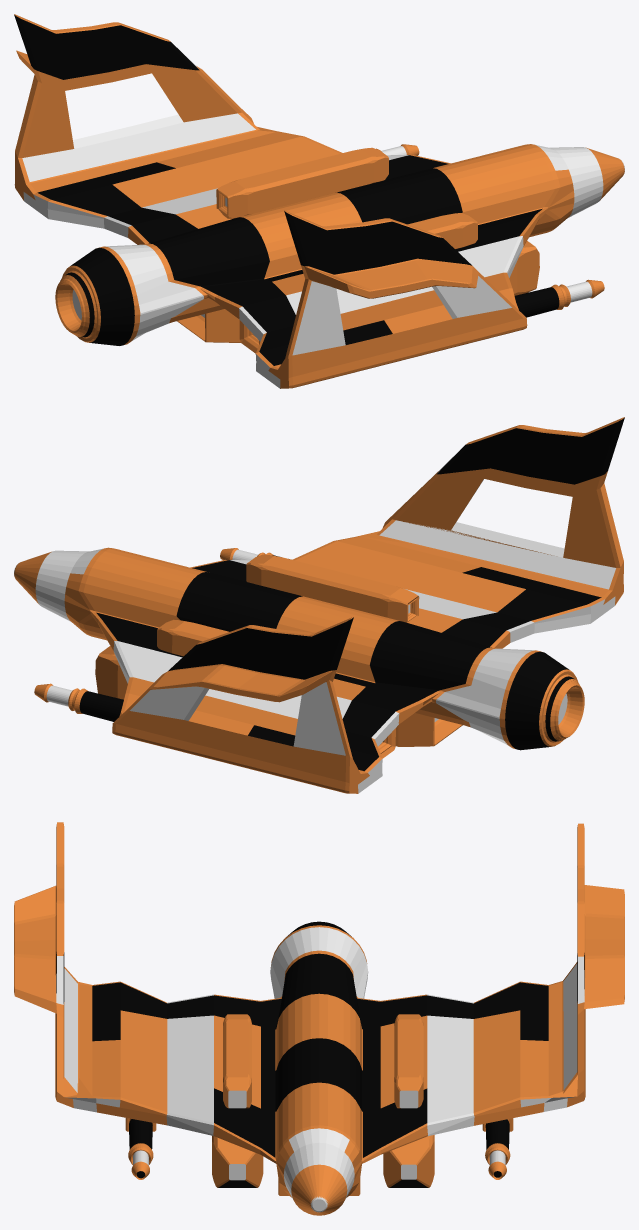
The model's file is Spaceship Final Export.fbx.
The picture shows the model from 3 angles, top to bottom: view 1: azimuth 30°, elevation 25°; view 2: azimuth 150°, elevation 25°; view 3: azimuth 270°, elevation 25°; orthographic projection. The views are drawn at different scales.
Parts seen in each view (by area): view 1: Spaceship; view 2: Spaceship; view 3: Spaceship.
Part boxes in pixels (x1,y1,x2,y2): Spaceship: (14,14,624,388); Spaceship: (14,417,624,793); Spaceship: (14,822,624,1215).
Size of the model in its own units: 238 by 95.21 by 236.
